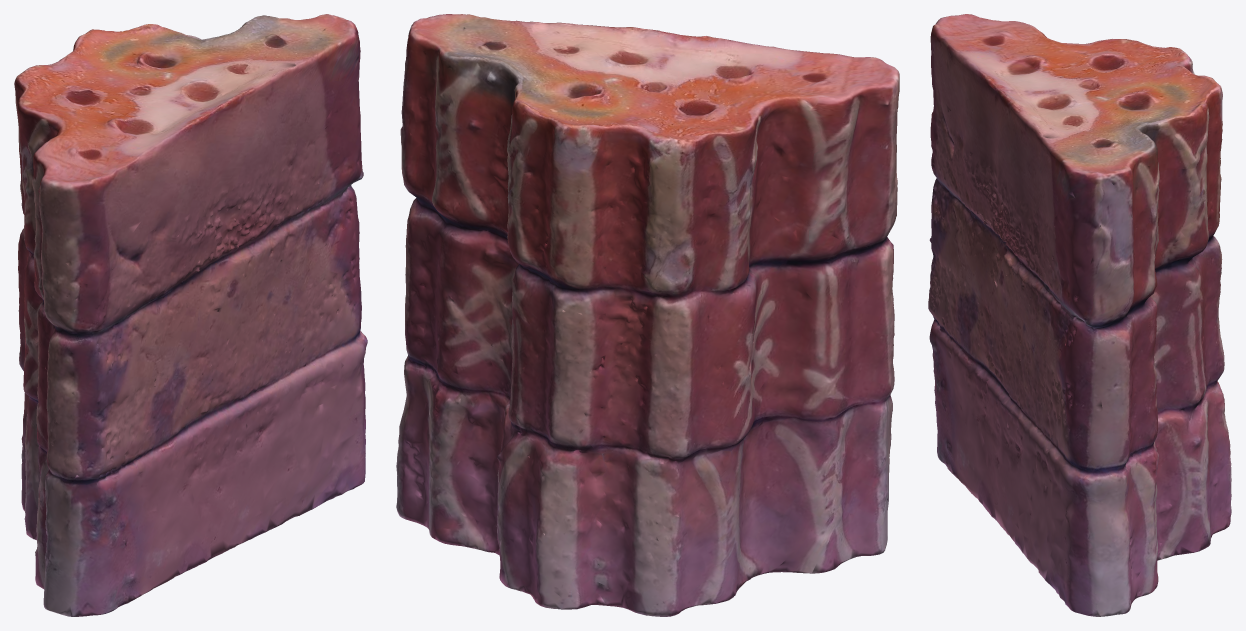
Rendered from TorreLow.glb.
3 renders of one model, left to right at view 1: azimuth 30°, elevation 25°; view 2: azimuth 150°, elevation 25°; view 3: azimuth 270°, elevation 25°, orthographic. The views are drawn at different scales.
Visible parts, largest first — view 1: GaudiTorre; view 2: GaudiTorre; view 3: GaudiTorre.
Boxes of the visible parts, x1=… form: GaudiTorre: x1=14, y1=14, x2=367, y2=616; GaudiTorre: x1=396, y1=14, x2=899, y2=616; GaudiTorre: x1=928, y1=14, x2=1231, y2=616.
Bounding box in the file's own units: 0.265 × 0.2944 × 0.1843.
Materials: 1 (1 with a texture image).
